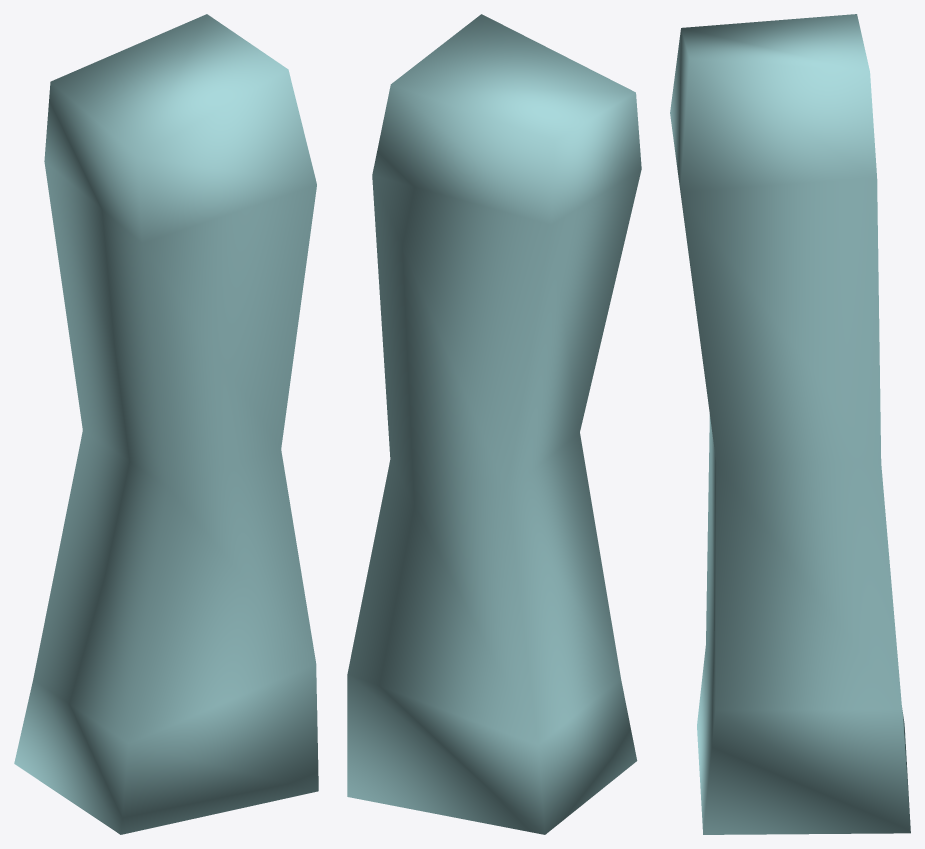
File: Skelly_f_middle.01.R.fbx
The picture shows the model from 3 angles, left to right: view 1: azimuth 30°, elevation 25°; view 2: azimuth 150°, elevation 25°; view 3: azimuth 270°, elevation 25°; orthographic projection. The views are drawn at different scales.
Visible parts, largest first — view 1: Skelly_f_middle.01.R; view 2: Skelly_f_middle.01.R; view 3: Skelly_f_middle.01.R.
Part boxes in pixels (x1,y1,x2,y2): Skelly_f_middle.01.R: [14, 14, 318, 834]; Skelly_f_middle.01.R: [347, 14, 641, 834]; Skelly_f_middle.01.R: [670, 14, 910, 834].
Bounding box in the file's own units: 1.67 × 5.58 × 1.6.
